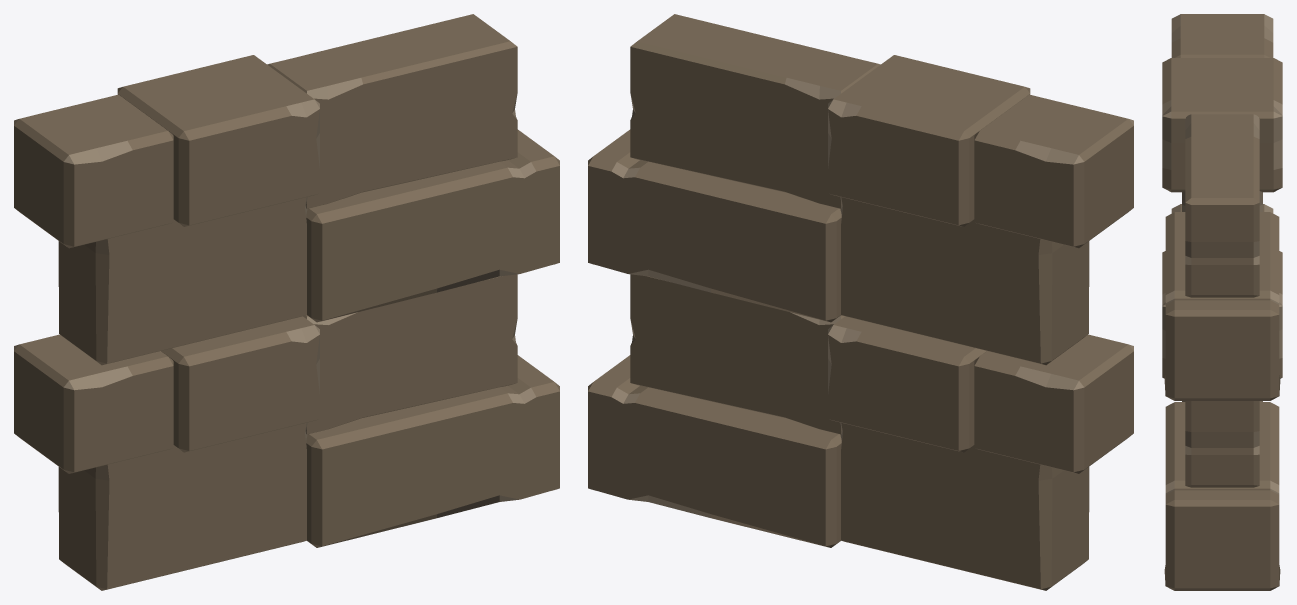
The model's file is Decorative_Wall.glb.
3 views of the same model, side by side, from view 1: azimuth 30°, elevation 25°; view 2: azimuth 150°, elevation 25°; view 3: azimuth 270°, elevation 25° (orthographic). The views are drawn at different scales.
Parts seen in each view (by area): view 1: Decorative_Wall; view 2: Decorative_Wall; view 3: Decorative_Wall.
Boxes of the visible parts, left/top/right/bottom form: Decorative_Wall: left=14, top=14, right=559, bottom=590; Decorative_Wall: left=588, top=14, right=1133, bottom=590; Decorative_Wall: left=1162, top=14, right=1282, bottom=590.
Size of the model in its own units: 1.74 by 1.52 by 0.4381.
